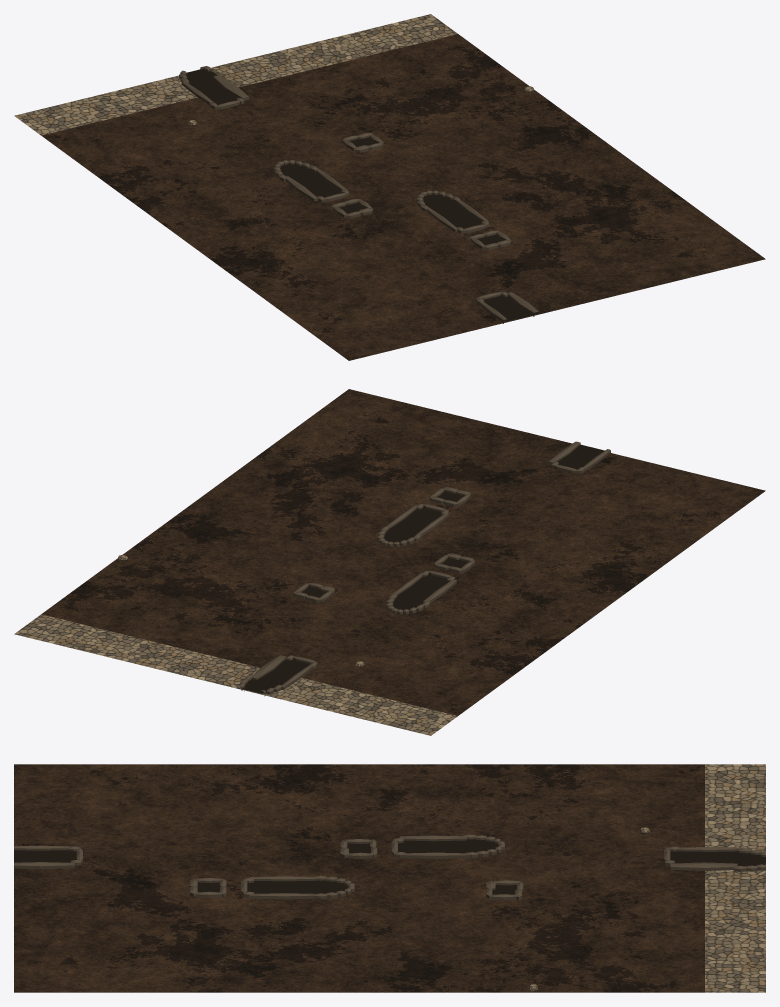
Rendered from garden-print-review-v1.glb.
The picture shows the model from 3 angles, top to bottom: view 1: azimuth 30°, elevation 25°; view 2: azimuth 150°, elevation 25°; view 3: azimuth 270°, elevation 25°; orthographic projection. The views are drawn at different scales.
Visible parts, largest first — view 1: 地形-col, 花园·泥地鞋印; view 2: 地形-col, 花园·泥地鞋印; view 3: 地形-col, 花园·泥地鞋印.
Part boxes in pixels (<box>): 地形-col: <box>14,14,765,360</box>; 花园·泥地鞋印: <box>179,66,538,323</box>; 地形-col: <box>14,389,765,735</box>; 花园·泥地鞋印: <box>238,441,610,696</box>; 地形-col: <box>14,764,765,992</box>; 花园·泥地鞋印: <box>14,834,765,900</box>.
Size of the model in its own units: 1.15 by 0.018 by 1.6.
Materials: 5 (3 with a texture image).
